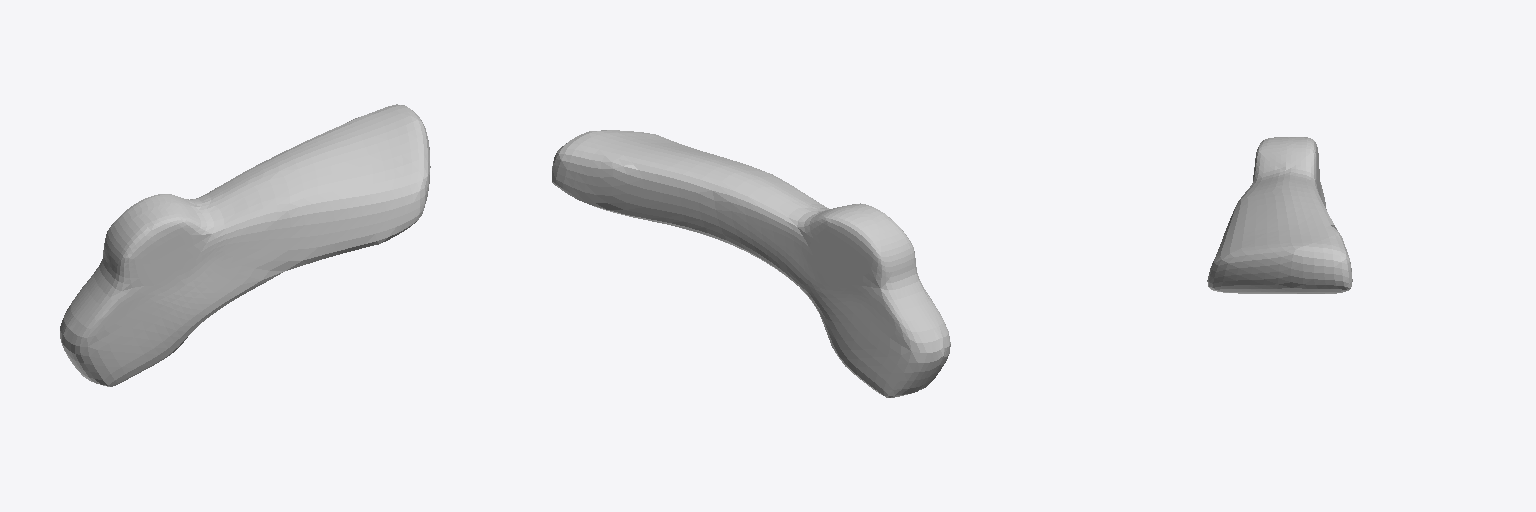
The model's file is RightFoot.obj.
3 views of the same model, side by side, from view 1: azimuth 30°, elevation 25°; view 2: azimuth 150°, elevation 25°; view 3: azimuth 270°, elevation 25° (orthographic).
Visible parts, largest first — view 1: foot_right.001; view 2: foot_right.001; view 3: foot_right.001.
Part boxes in pixels (left/top/right/bottom): foot_right.001: left=60, top=104, right=430, bottom=386; foot_right.001: left=552, top=130, right=950, bottom=397; foot_right.001: left=1207, top=137, right=1352, bottom=293.
Size of the model in its own units: 0.2197 by 0.1035 by 0.0747.